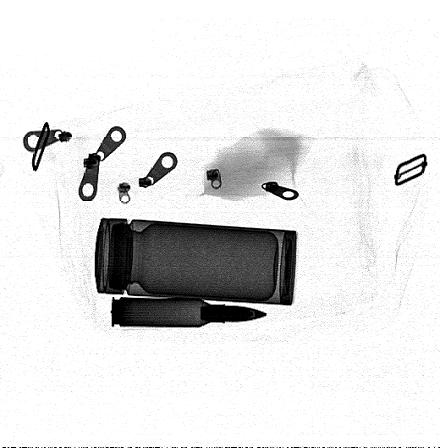Bullet: (109, 295, 270, 328)
